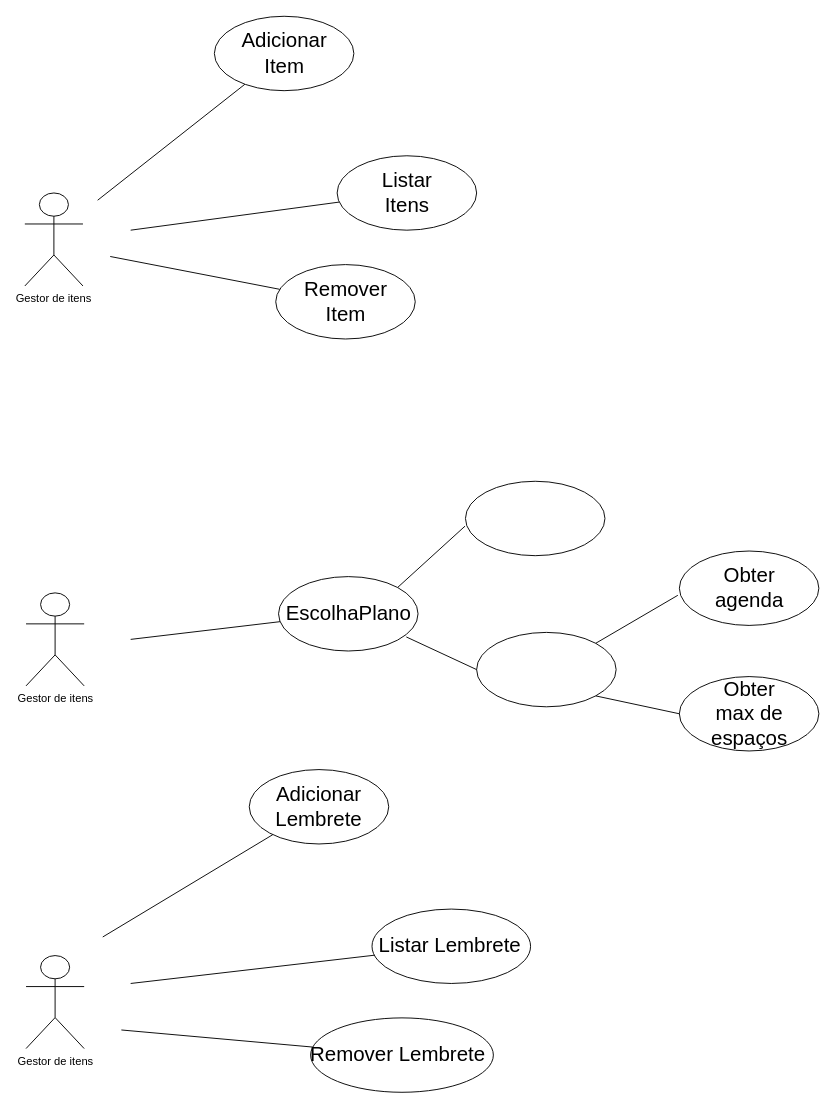
This 835x1109 diagram has some shape labels left out. The shapes that lost their labels are listed below. From the top down, each one's box as (x1, y1, x2, y2) in pixels, then its label:
(465, 480, 605, 556): Convencional
(476, 631, 616, 707): Premium
